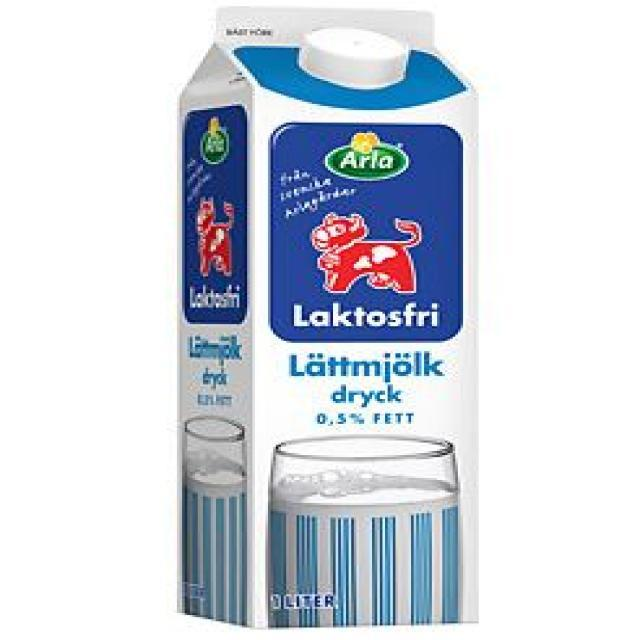Carton: (147, 0, 556, 640)
